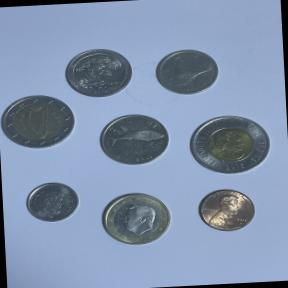coin: (182, 108, 276, 178), (92, 184, 178, 250), (95, 108, 174, 170), (0, 91, 78, 153), (61, 43, 136, 100), (190, 181, 262, 236), (20, 175, 84, 227)
